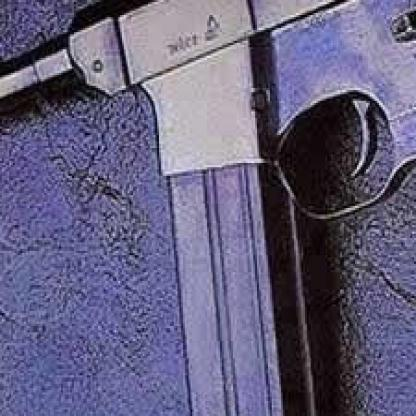gun: (0, 0, 414, 326)
